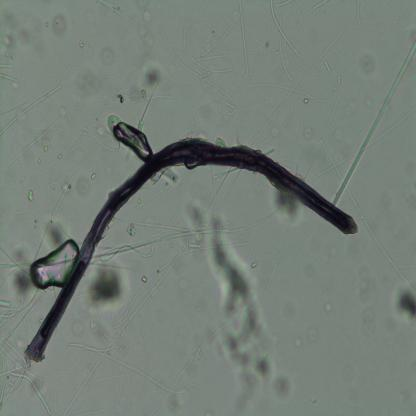Air bubble: (30, 238, 78, 290)
Background material: (220, 326, 292, 409), (203, 214, 251, 311), (89, 257, 128, 313), (12, 241, 32, 302), (272, 187, 302, 226), (390, 284, 416, 325), (95, 41, 118, 68), (47, 9, 68, 36), (46, 221, 66, 248), (362, 306, 374, 342), (146, 63, 161, 90), (358, 54, 376, 75), (75, 176, 92, 197), (15, 25, 32, 44), (0, 31, 15, 50), (302, 264, 315, 276), (302, 126, 313, 139), (308, 329, 318, 343), (323, 303, 333, 315), (28, 188, 36, 202), (42, 136, 49, 152), (294, 339, 304, 350), (250, 258, 259, 270), (140, 275, 148, 284), (78, 38, 85, 47), (0, 209, 6, 218), (90, 173, 97, 179)
Cotton: (23, 132, 361, 362)
Glass filter fibre: (151, 199, 298, 416), (332, 42, 416, 206), (94, 203, 278, 260), (63, 50, 152, 158), (312, 107, 416, 179), (345, 186, 415, 291), (67, 340, 196, 394), (160, 26, 242, 110), (299, 0, 368, 81), (66, 82, 128, 158), (34, 169, 78, 262), (123, 281, 150, 416), (125, 169, 196, 220), (302, 96, 340, 180), (0, 84, 61, 136), (6, 115, 64, 167), (62, 350, 106, 416), (202, 0, 247, 58), (243, 81, 328, 104), (97, 0, 148, 37), (11, 371, 51, 415), (269, 0, 300, 56), (108, 115, 145, 158), (0, 345, 44, 381), (112, 215, 192, 233), (265, 99, 293, 144), (0, 288, 39, 318), (279, 0, 292, 82), (98, 243, 155, 260), (0, 309, 30, 341), (48, 59, 76, 93), (152, 208, 182, 238), (238, 0, 249, 80), (191, 56, 233, 74), (290, 9, 312, 41), (182, 0, 196, 50), (112, 297, 132, 330), (92, 133, 119, 154), (2, 376, 20, 406), (3, 339, 26, 360), (129, 94, 177, 104), (0, 361, 30, 376), (188, 97, 198, 140), (42, 182, 61, 199), (291, 118, 300, 151), (212, 166, 235, 178), (0, 260, 27, 270), (196, 52, 226, 61), (224, 101, 236, 117), (0, 311, 12, 326), (0, 72, 18, 82), (297, 0, 308, 15), (74, 291, 92, 300), (356, 0, 362, 26), (397, 262, 416, 270), (312, 0, 327, 10), (274, 0, 292, 7), (0, 354, 5, 375), (0, 62, 13, 70), (136, 120, 144, 132), (0, 299, 11, 307), (54, 390, 58, 412), (338, 42, 344, 56), (324, 60, 330, 72), (334, 48, 340, 58), (336, 74, 342, 84), (126, 375, 130, 384)
